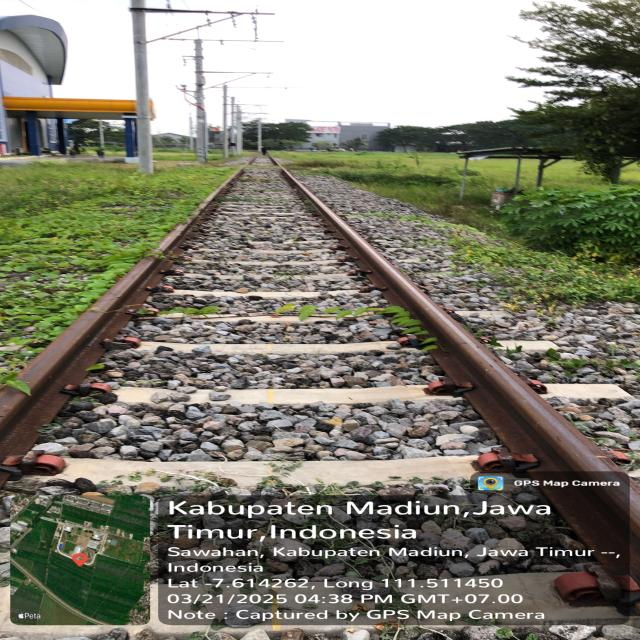rail-detection: (284, 173, 640, 589), (0, 171, 241, 456)
